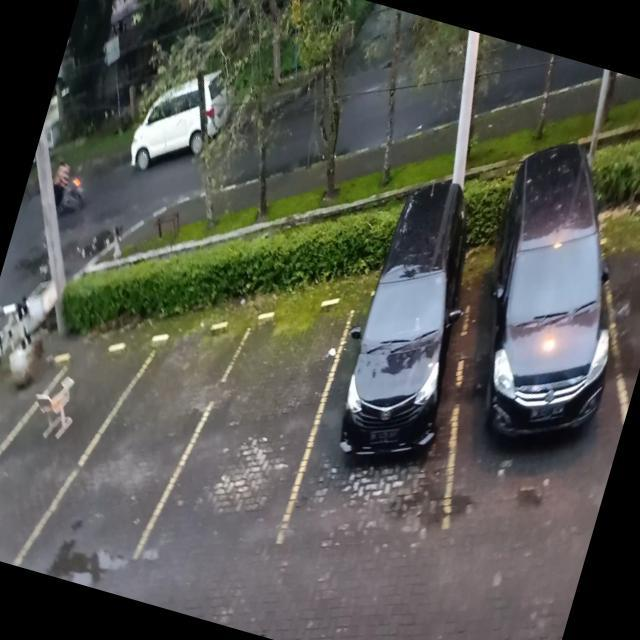empty: (165, 273, 352, 567), (62, 312, 222, 573)
occupied: (417, 198, 640, 555), (288, 217, 502, 542)
